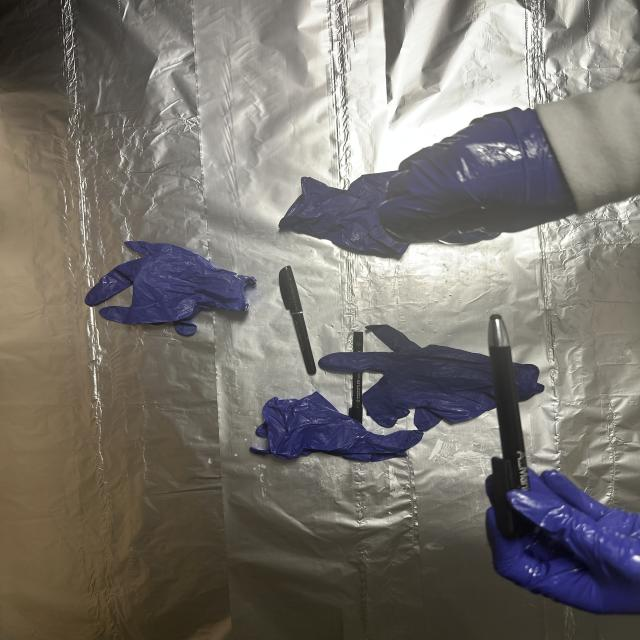gloves_contaminated: (379, 108, 577, 243), (486, 471, 640, 614)
